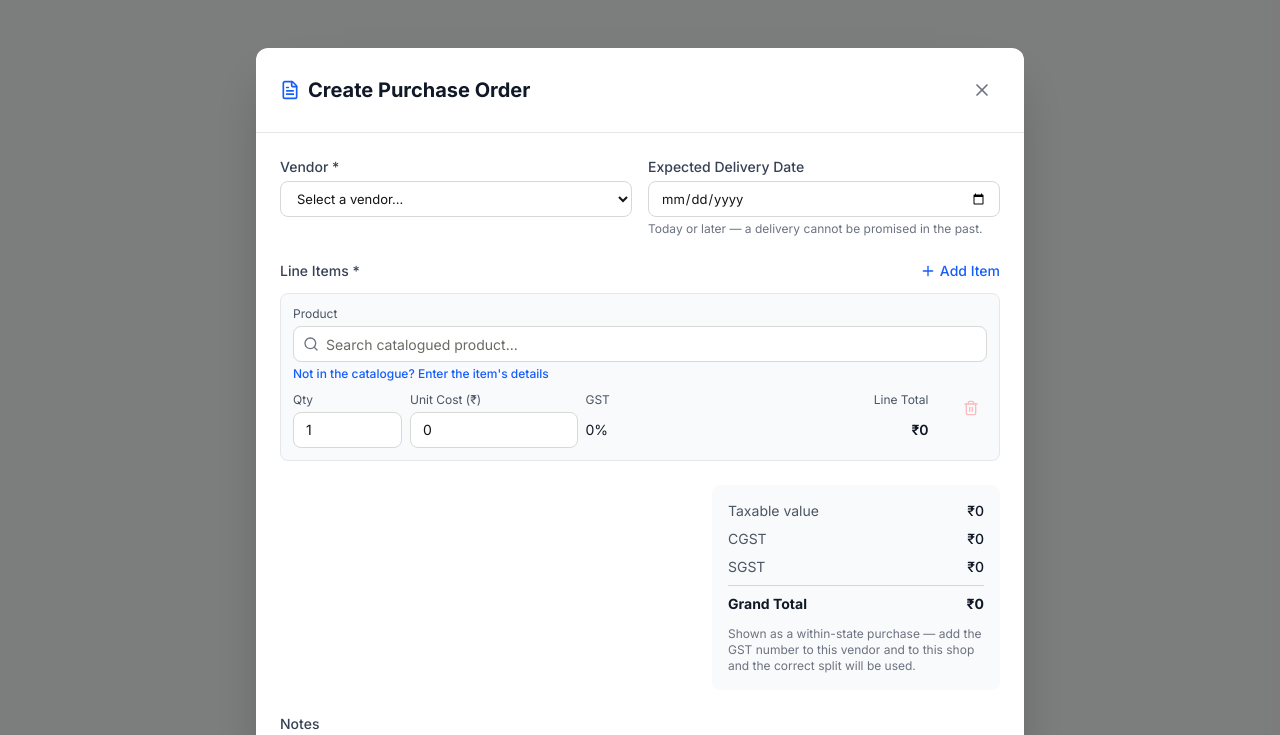
Scenario: F22 - the price last paid to THIS vendor wins over the catalogue cost › a cost the manager typed is never replaced (the caption still tells what this vendor was paid)
Type "8895" into the field with placeholder "Search catalogued product..." at (640, 344), box x1=293 y1=326 x2=987 y2=362
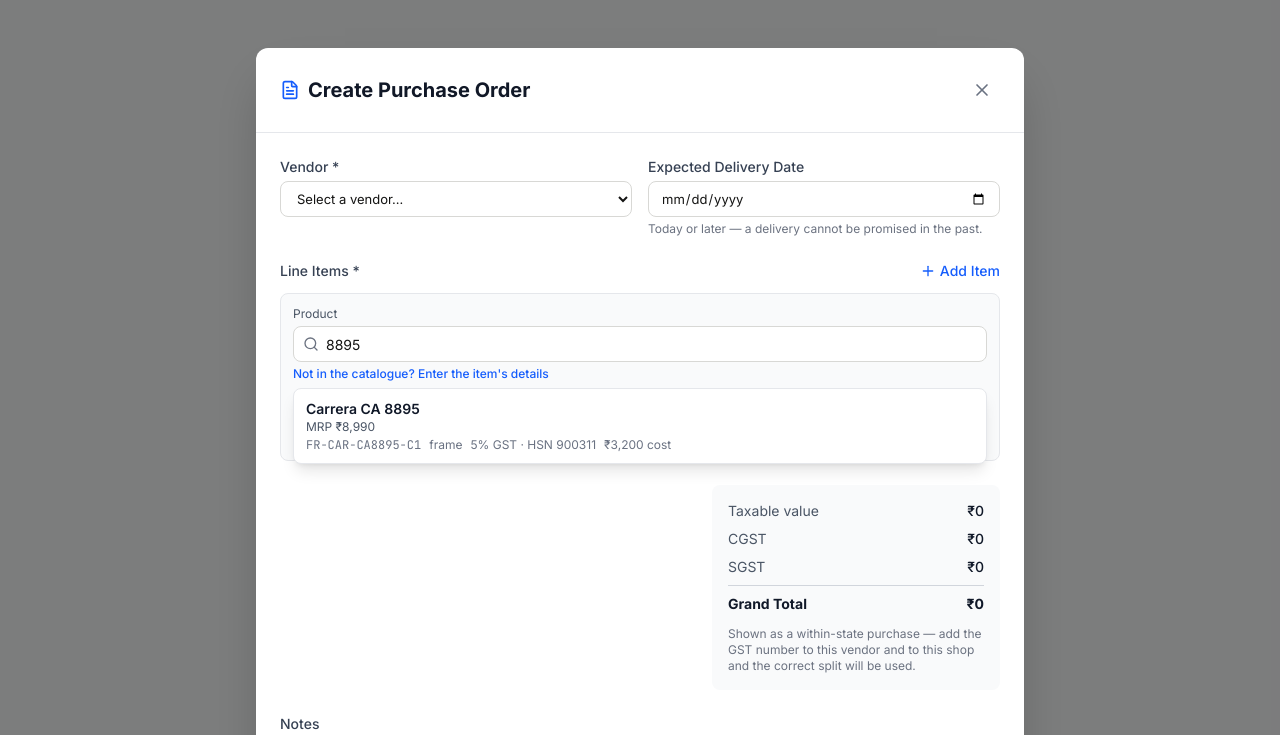
Click the button "Carrera CA 8895" at (363, 408), box x1=294 y1=389 x2=986 y2=463
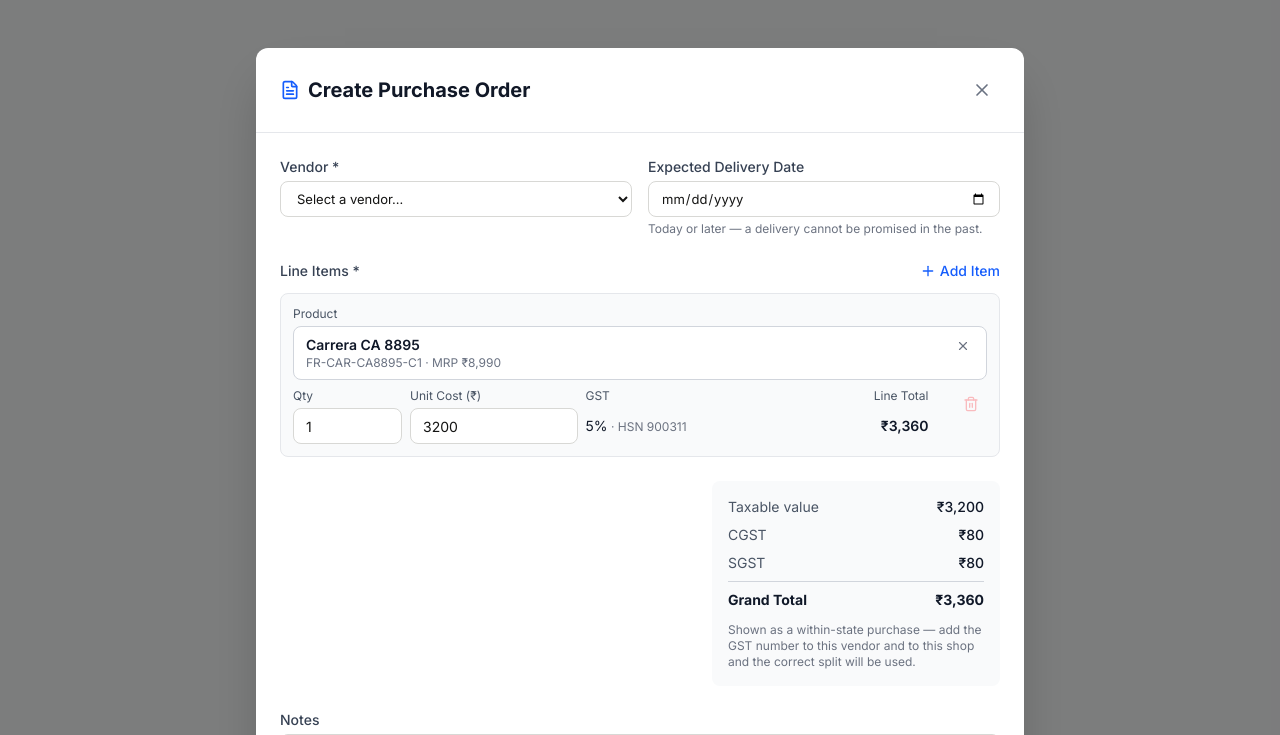
Replace the text in the number field named "Unit cost for line 1" with "2950" at (494, 426), box x1=410 y1=408 x2=578 y2=444
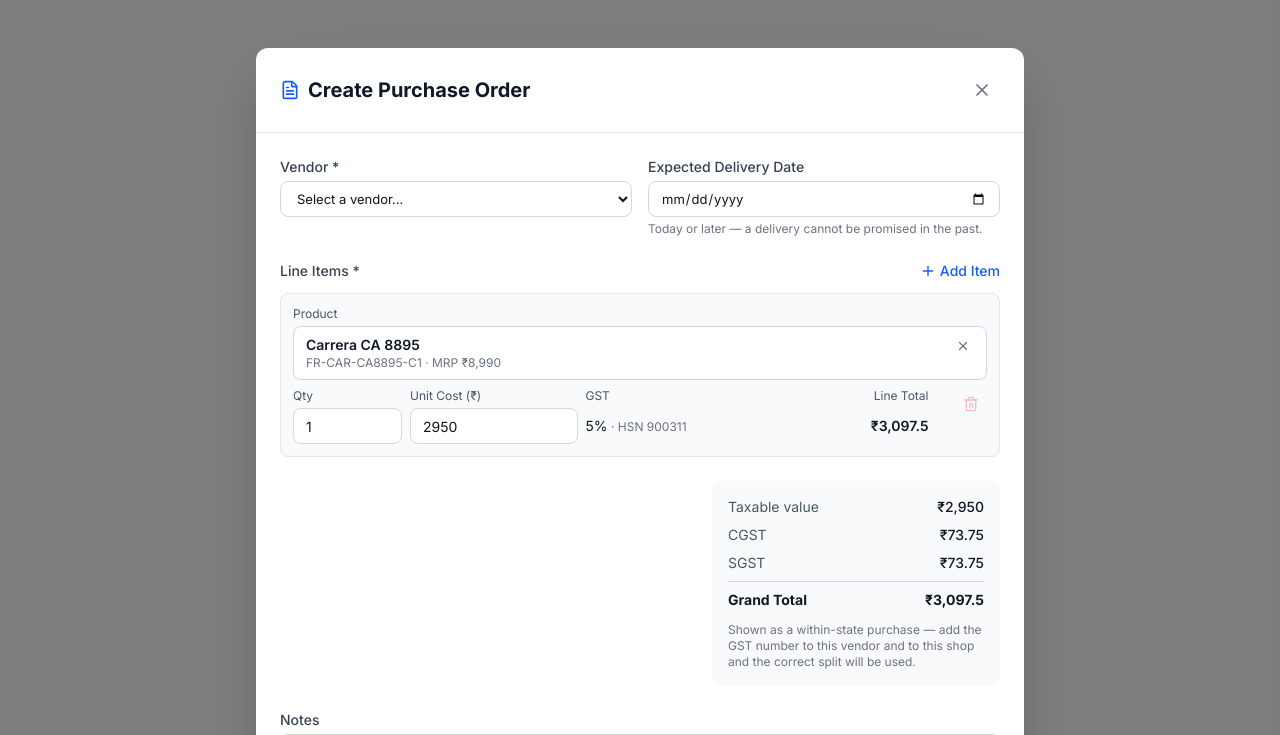
Select "Mumbai Lens House (V-MUM)" in the dropdown named "Vendor" at (456, 199), box x1=280 y1=181 x2=632 y2=217
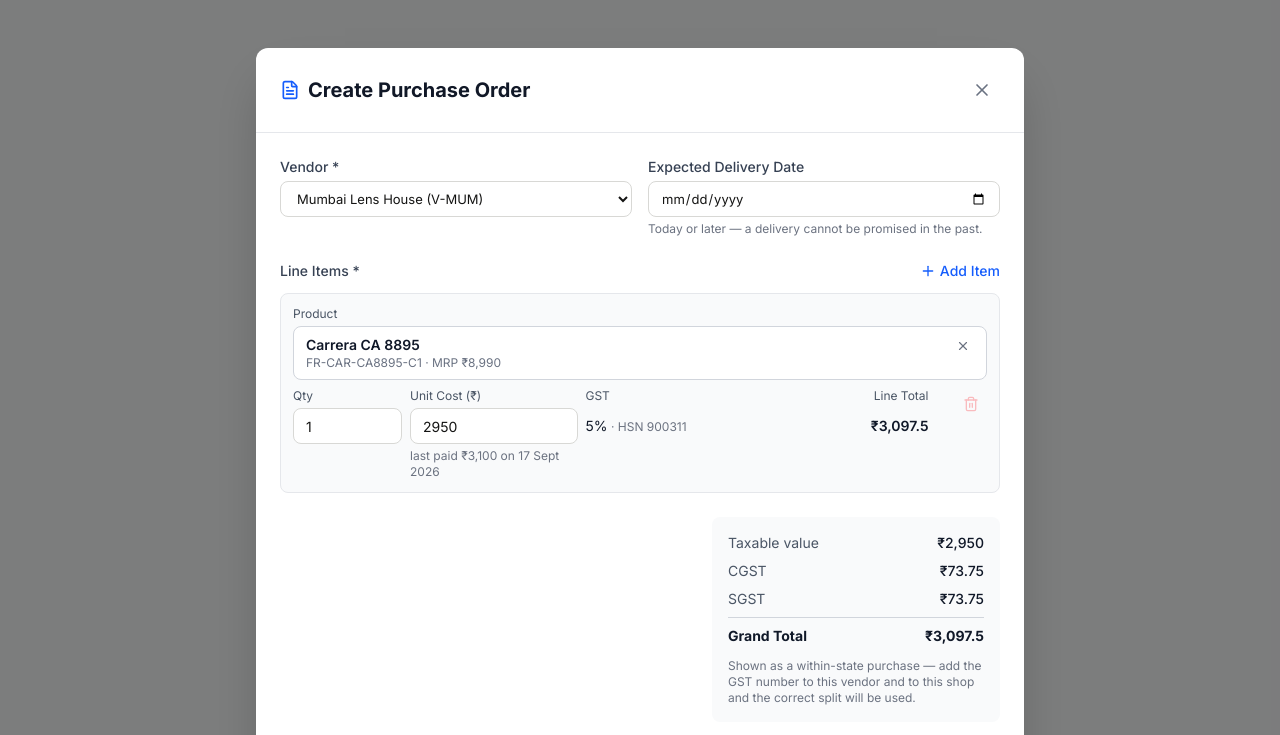
Result: the text "last paid ₹3,100 on 17 Sept 2026" is shown at x1=410 y1=448 x2=578 y2=480
